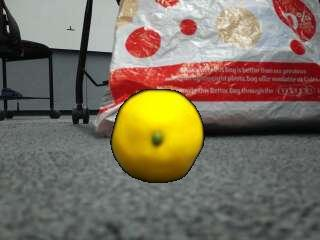lemon: (112, 90, 202, 183)
